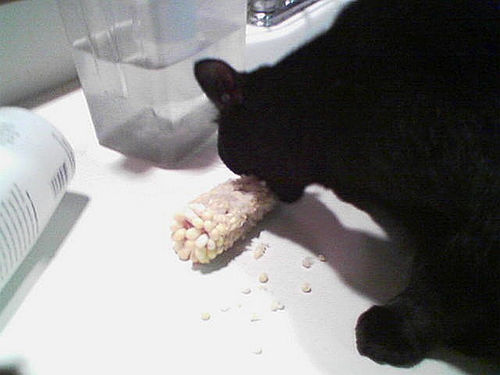corn: (172, 176, 265, 265)
